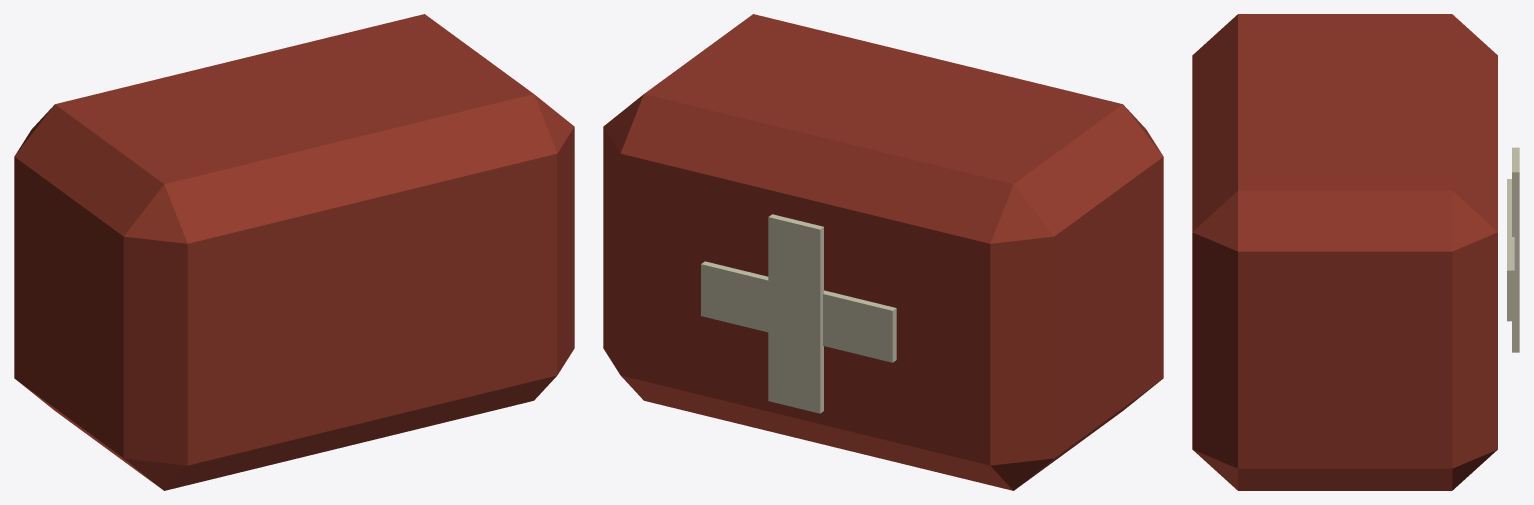
The model's file is kit.glb.
3 views of the same model, side by side, from view 1: azimuth 30°, elevation 25°; view 2: azimuth 150°, elevation 25°; view 3: azimuth 270°, elevation 25° (orthographic). The views are drawn at different scales.
Visible parts, largest first — view 1: medical pouch; view 2: medical pouch, cross vertical, cross horizontal; view 3: medical pouch, cross vertical, cross horizontal.
Boxes of the visible parts, x1=… form: medical pouch: x1=14, y1=14, x2=574, y2=490; medical pouch: x1=603, y1=14, x2=1163, y2=490; cross vertical: x1=768, y1=214, x2=823, y2=413; cross horizontal: x1=701, y1=261, x2=896, y2=362; medical pouch: x1=1192, y1=14, x2=1497, y2=490; cross vertical: x1=1512, y1=147, x2=1519, y2=352; cross horizontal: x1=1507, y1=179, x2=1514, y2=321.
Size of the model in its own units: 0.2 by 0.13 by 0.1285.
